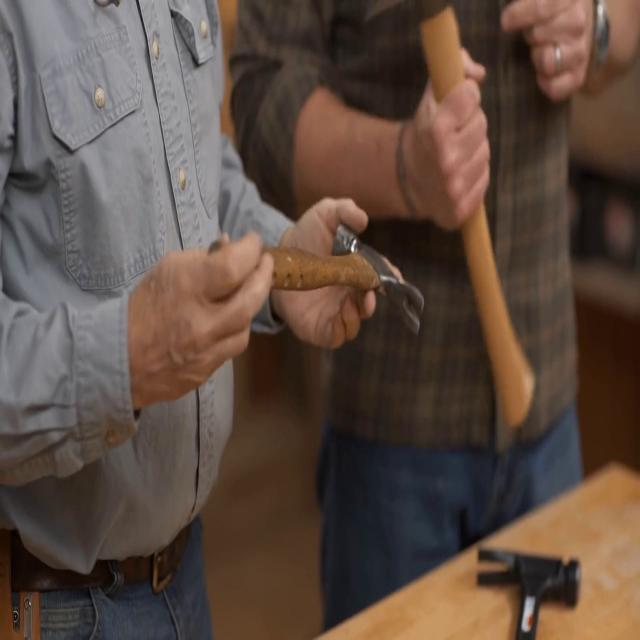hammer: (358, 0, 538, 431), (207, 218, 425, 341)
